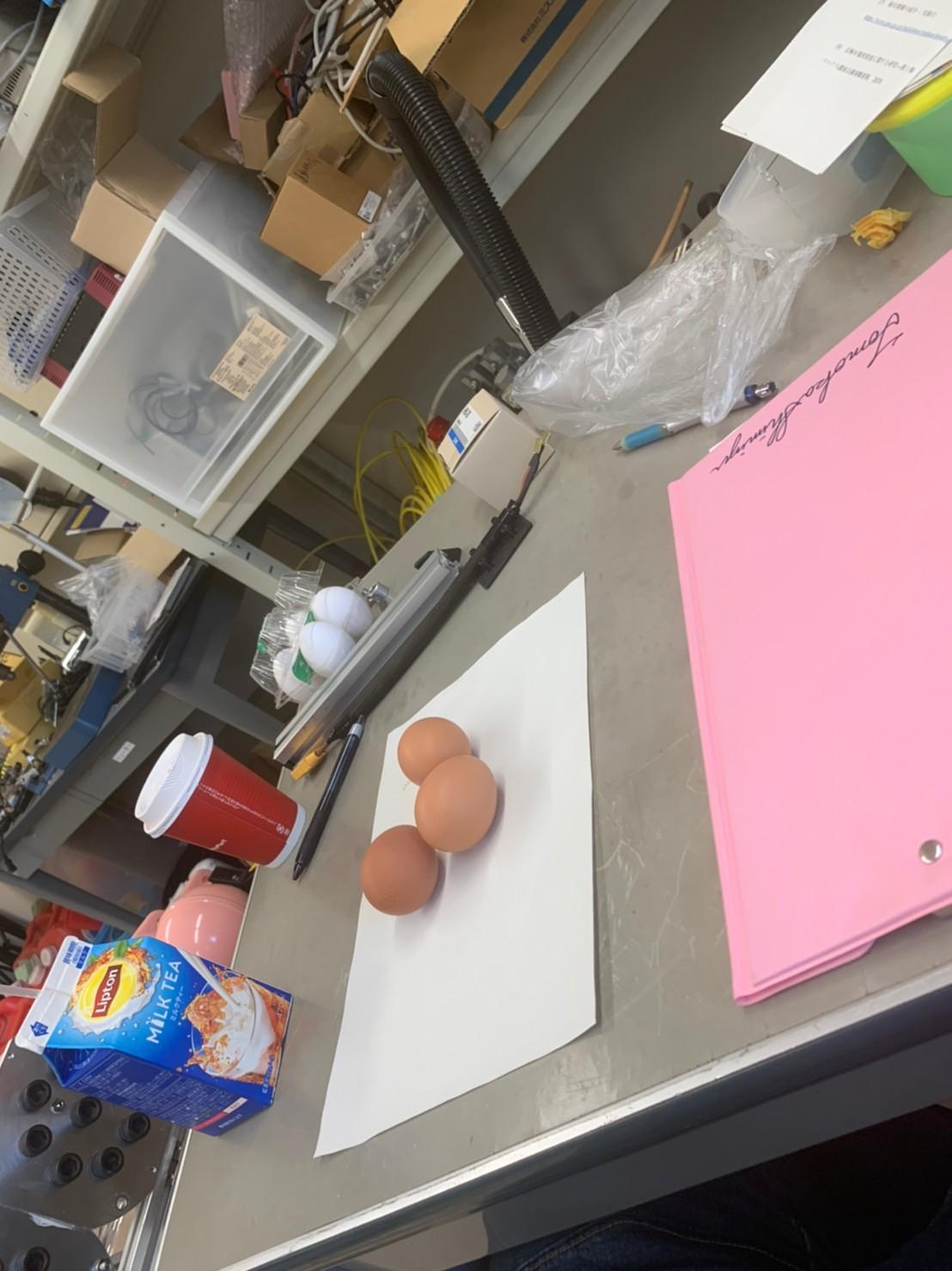egg: (353, 813, 445, 921), (411, 759, 505, 858), (391, 707, 474, 792)
